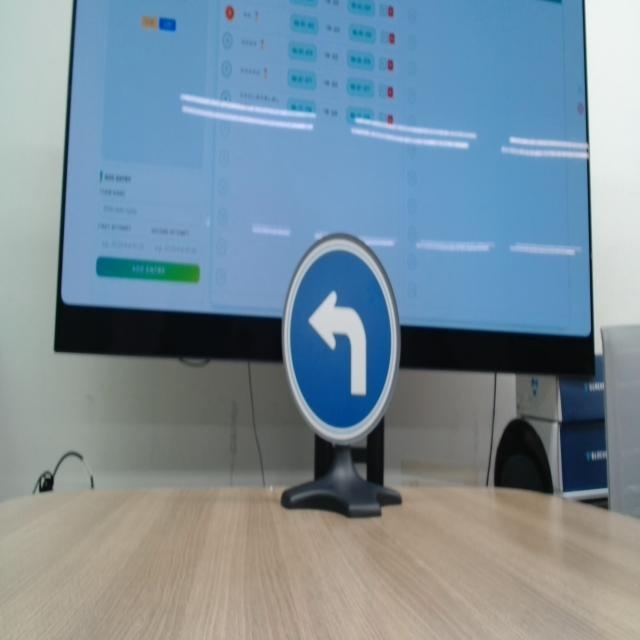left_direction: (280, 226, 404, 442)
